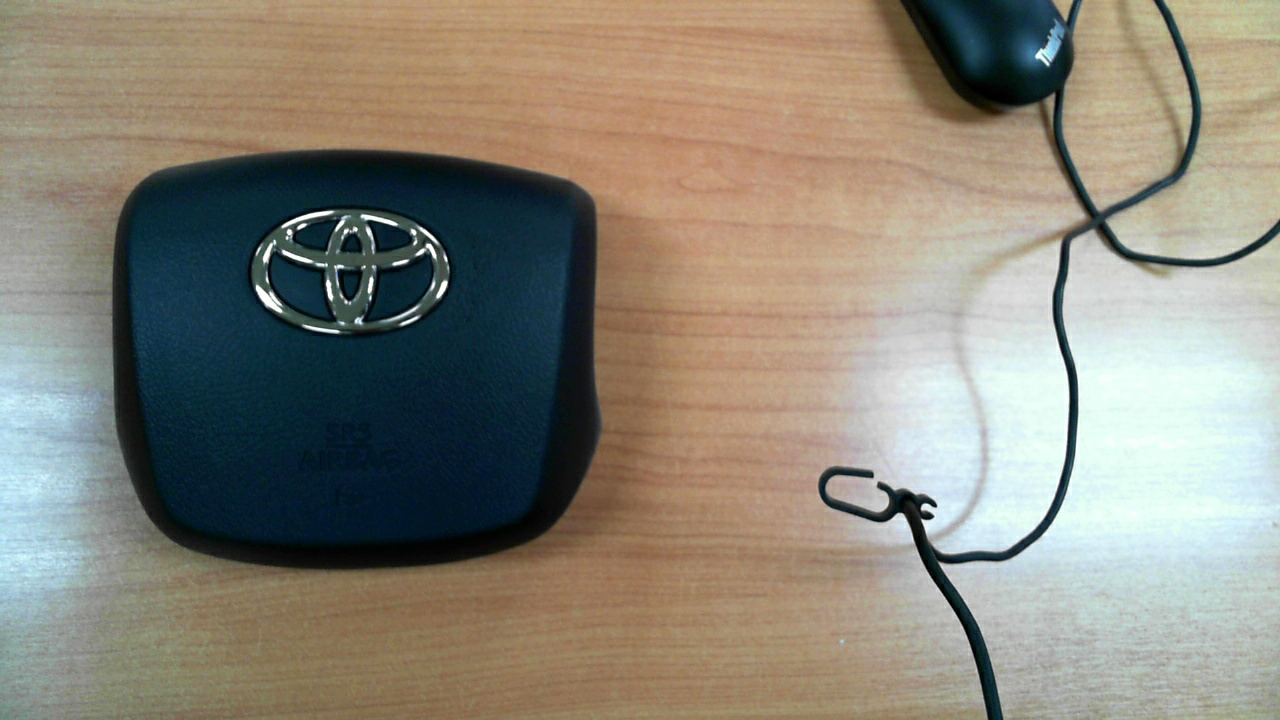Airbag: (76, 126, 635, 593)
